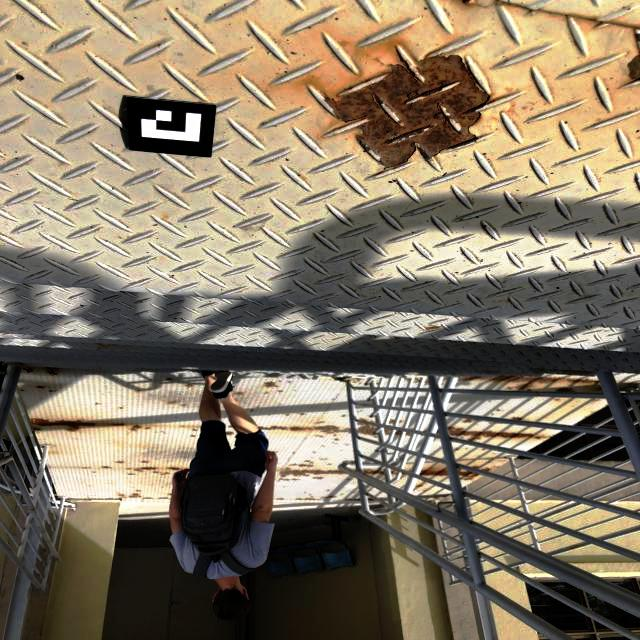Corrosion: (321, 48, 494, 171), (493, 0, 606, 28), (457, 375, 599, 391), (605, 21, 640, 85), (448, 426, 534, 442), (29, 418, 95, 432), (279, 467, 346, 478), (288, 425, 352, 434), (357, 422, 379, 438), (420, 466, 449, 476), (457, 469, 480, 480), (456, 0, 478, 9), (43, 367, 61, 376), (258, 426, 287, 431), (584, 410, 599, 418), (364, 469, 384, 475), (425, 325, 441, 332), (264, 381, 279, 388), (130, 424, 143, 432), (556, 387, 575, 392), (23, 367, 34, 374), (359, 418, 374, 423), (129, 493, 141, 498), (441, 377, 448, 385), (384, 428, 392, 435), (111, 423, 125, 427), (511, 417, 524, 421), (298, 464, 314, 467), (345, 498, 361, 501), (321, 495, 337, 498), (167, 401, 179, 405), (153, 472, 169, 475), (140, 467, 156, 470), (167, 467, 182, 470), (118, 493, 127, 498), (36, 385, 47, 389), (534, 435, 545, 439), (414, 377, 421, 383), (395, 430, 402, 436), (424, 378, 429, 386), (463, 419, 473, 423), (234, 391, 244, 395), (313, 476, 323, 480), (335, 377, 345, 381), (297, 498, 317, 500), (391, 469, 397, 475), (597, 385, 602, 391), (389, 420, 395, 425), (481, 468, 491, 471), (405, 432, 412, 436), (186, 384, 193, 388), (346, 379, 355, 382), (471, 466, 480, 469), (592, 399, 600, 402), (226, 432, 234, 435), (354, 378, 362, 381), (368, 497, 374, 501), (292, 478, 299, 481), (135, 390, 142, 393), (435, 430, 439, 435), (549, 435, 554, 439), (316, 435, 322, 438), (135, 469, 141, 472), (103, 466, 112, 468), (143, 497, 152, 499), (158, 497, 167, 499), (116, 461, 124, 463), (405, 378, 410, 381), (278, 390, 283, 393), (167, 378, 172, 381), (142, 461, 147, 464), (434, 497, 439, 500), (144, 427, 151, 429), (423, 429, 427, 432), (317, 422, 323, 424), (335, 438, 339, 441), (250, 409, 254, 412), (234, 398, 238, 401), (264, 392, 270, 394), (128, 473, 134, 475), (118, 497, 122, 500), (416, 485, 422, 487), (554, 399, 559, 401), (304, 460, 309, 462), (291, 464, 296, 466), (284, 479, 289, 481), (136, 490, 141, 492), (193, 429, 198, 431), (605, 404, 608, 407), (399, 420, 402, 423), (169, 493, 172, 496), (410, 428, 414, 430), (300, 413, 304, 415), (310, 461, 314, 463), (182, 404, 186, 406), (119, 407, 123, 409), (49, 390, 53, 392), (95, 403, 99, 405), (423, 490, 427, 492), (497, 409, 500, 411), (342, 415, 345, 417), (229, 425, 232, 427), (286, 414, 289, 416), (256, 407, 259, 409), (278, 380, 281, 382), (377, 382, 379, 385), (279, 478, 282, 480), (192, 435, 195, 437), (402, 473, 405, 475), (464, 383, 469, 384), (289, 381, 291, 383), (346, 479, 350, 480), (334, 434, 336, 436), (329, 464, 331, 465)
